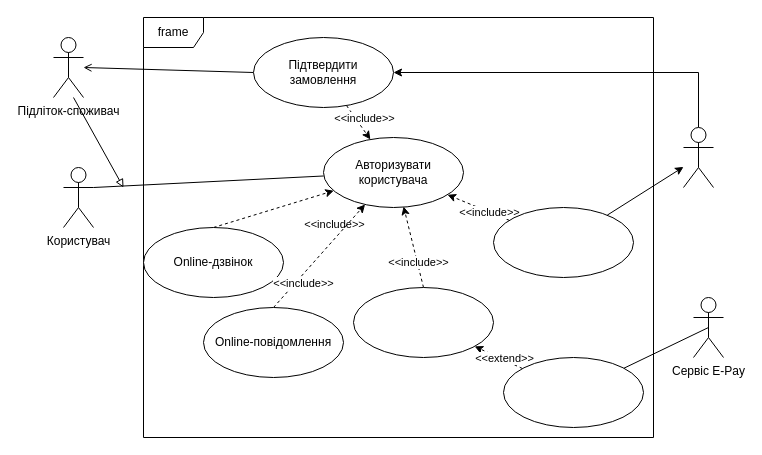
This 762x455 diagram has some shape labels left out. Each missing label, with the centre of its shape:
"Cформувати замовлення" belongs at [563,242].
"E-сплата" belongs at [573,392].
"Сплатити послугу" belongs at [423,322].
"Співробітник магазину" belongs at [698,157].
